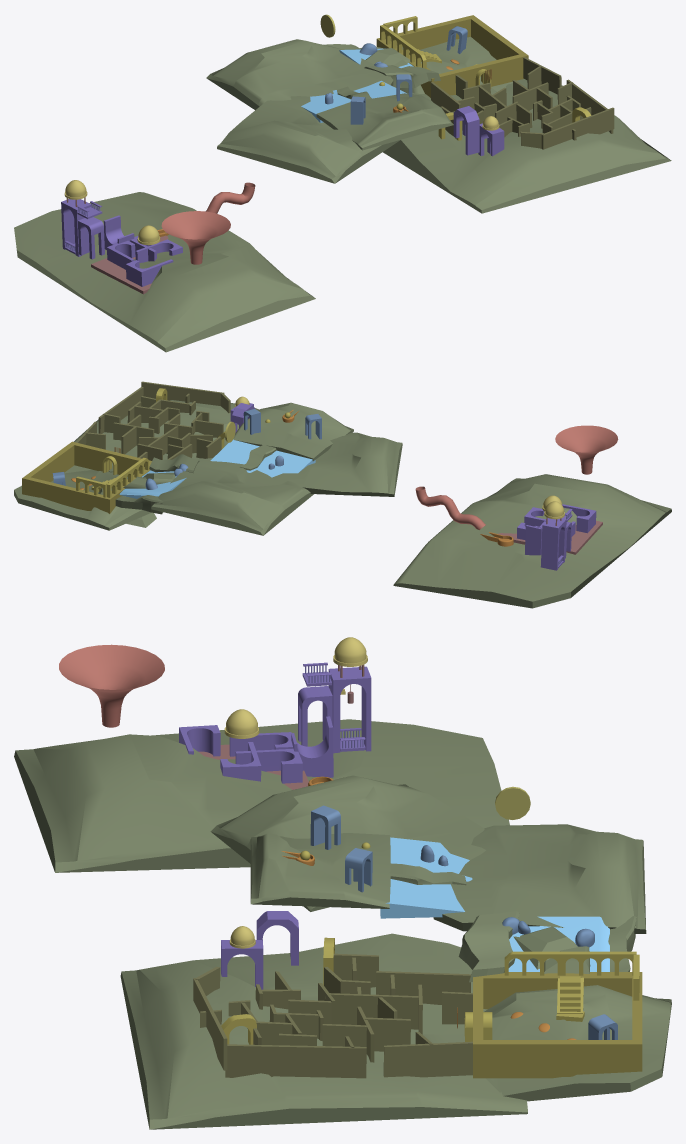
File: LevelDesign2.fbx
3 renders of one model, top to bottom at view 1: azimuth 30°, elevation 25°; view 2: azimuth 150°, elevation 25°; view 3: azimuth 270°, elevation 25°, orthographic. The views are drawn at different scales.
Parts seen in each view (by area): view 1: pCube74, pCube23, pCube73, pCube20, Wall, pCube18, pasted__pCylinder70, pCube24, pCube5, Pound1, pasted__polySurface26, pasted__pasted__polySurface7 (+11 smaller); view 2: pCube74, pCube20, pCube73, Wall, pCube18, pCube24, pasted__pCylinder70, pCube23, Pound1, pasted__pasted__polySurface7, pCube5, pasted__pCylinder71 (+11 smaller); view 3: pCube74, pCube23, pCube20, pCube73, pCube24, Wall, pCube18, pasted__pCylinder70, pCube28, Pound1, pCube33, pPlane4 (+26 smaller).
Boxes of the visible parts, left/top/right/bottom form: pCube74: left=14, top=192, right=315, bottom=352; pCube23: left=383, top=79, right=671, bottom=213; pCube73: left=217, top=96, right=400, bottom=183; pCube20: left=206, top=39, right=393, bottom=110; Wall: left=376, top=15, right=528, bottom=97; pCube18: left=316, top=93, right=453, bottom=150; pasted__pCylinder70: left=161, top=211, right=230, bottom=264; pCube24: left=400, top=37, right=517, bottom=93; pCube5: left=541, top=107, right=614, bottom=149; Pound1: left=301, top=80, right=406, bottom=122; pasted__polySurface26: left=453, top=106, right=479, bottom=155; pasted__pasted__polySurface7: left=61, top=199, right=91, bottom=256; pCube74: left=393, top=474, right=671, bottom=608; pCube20: left=151, top=458, right=313, bottom=535; pCube73: left=272, top=432, right=402, bottom=496; Wall: left=22, top=441, right=151, bottom=513; pCube18: left=233, top=402, right=353, bottom=461; pCube24: left=14, top=469, right=151, bottom=530; pasted__pCylinder70: left=555, top=425, right=618, bottom=474; pCube23: left=64, top=400, right=259, bottom=473; Pound1: left=210, top=439, right=315, bottom=477; pasted__pasted__polySurface7: left=540, top=518, right=566, bottom=570; pCube5: left=141, top=381, right=224, bottom=405; pasted__pCylinder71: left=415, top=486, right=485, bottom=529; pCube74: left=14, top=719, right=509, bottom=872; pCube23: left=120, top=933, right=527, bottom=1129; pCube20: left=433, top=824, right=646, bottom=933; pCube73: left=210, top=775, right=485, bottom=911; pCube24: left=484, top=985, right=671, bottom=1101; Wall: left=473, top=972, right=642, bottom=1078; pCube18: left=250, top=833, right=390, bottom=908; pasted__pCylinder70: left=59, top=644, right=164, bottom=727; pCube28: left=225, top=1044, right=366, bottom=1078; Pound1: left=380, top=837, right=472, bottom=918; pCube33: left=383, top=1041, right=472, bottom=1077; pPlane4: left=458, top=911, right=519, bottom=982.
Bounding box in the file's own units: 2377 × 552 × 1551.
